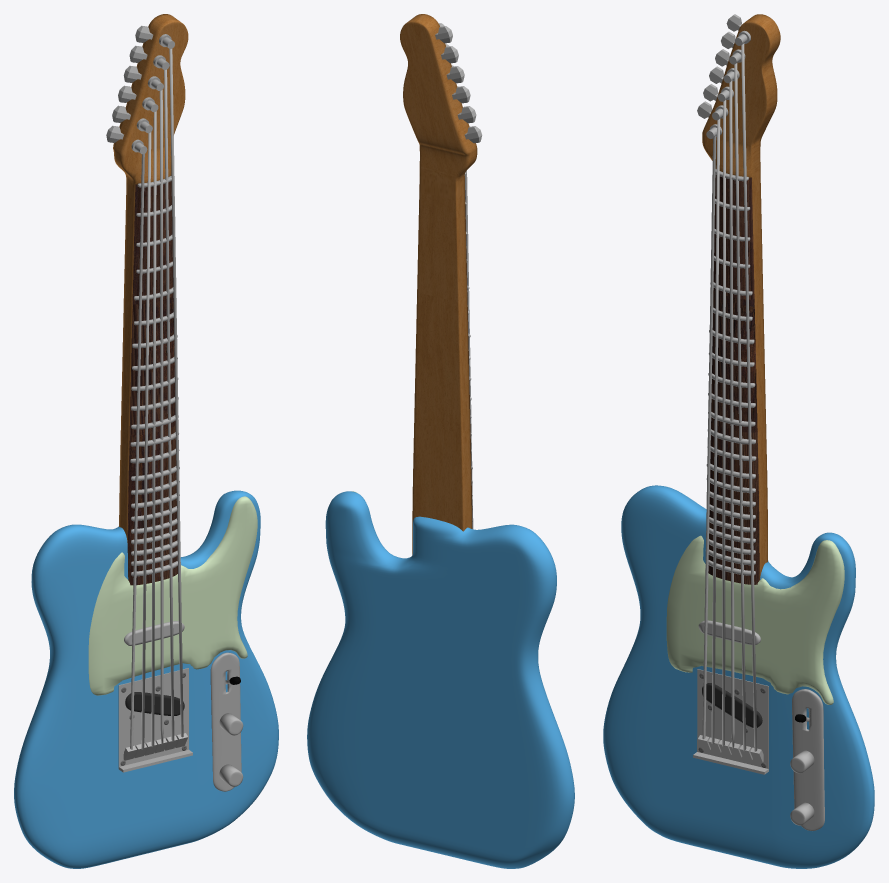
File: Fender Telecaster.fbx
3 views of the same model, side by side, from view 1: azimuth 30°, elevation 25°; view 2: azimuth 150°, elevation 25°; view 3: azimuth 330°, elevation 25° (orthographic).
Visible parts, largest first — view 1: Telecaster Body, Telecaster shieldguard, Telecaster Fretboard, Telecaster Neck, Fret, Cube.017, TelecasterPlate, Cube.034, Cube.033, Cube.006, Cube.025, Cube.005 (+5 smaller); view 2: Telecaster Body, Telecaster Neck, Cube.028, Cube.004; view 3: Telecaster Body, Telecaster shieldguard, Telecaster Fretboard, Telecaster Neck, Fret, Cube.017, TelecasterPlate, Cube.034, Cube.033, Cube.025, Cube.005, Cube.006 (+5 smaller).
Part boxes in pixels (x1,y1,x2,y2): Telecaster Body: (14,490,278,868); Telecaster shieldguard: (88,496,257,695); Telecaster Fretboard: (127,181,177,585); Telecaster Neck: (113,14,188,542); Fret: (130,176,179,576); Cube.017: (118,668,192,772); TelecasterPlate: (210,652,241,791); Cube.034: (169,49,183,737); Cube.033: (164,69,174,741); Cube.006: (151,111,156,747); Cube.025: (159,90,163,744); Cube.005: (141,132,151,749); Telecaster Body: (307,491,574,868); Telecaster Neck: (400,14,477,554); Cube.028: (435,26,482,143); Cube.004: (465,170,473,528); Telecaster Body: (603,485,874,868); Telecaster shieldguard: (666,535,844,704); Telecaster Fretboard: (708,174,759,584); Telecaster Neck: (702,14,780,579); Fret: (706,169,756,575); Cube.017: (693,669,768,774); TelecasterPlate: (792,689,824,830); Cube.034: (741,43,757,751); Cube.033: (734,63,746,751); Cube.025: (729,80,734,748); Cube.005: (711,118,720,744); Cube.006: (722,100,726,746).
Size of the model in its own units: 32.43 by 97.5 by 5.47.
Materials: 9 (2 with a texture image).
